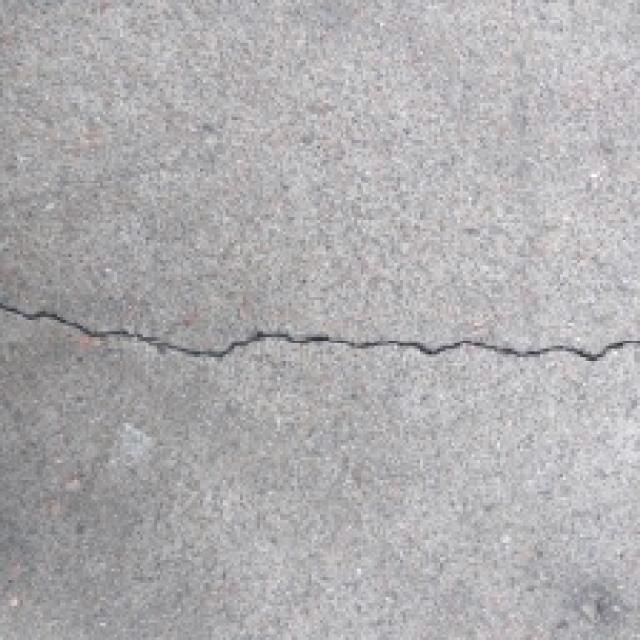crack: (0, 272, 640, 392)
